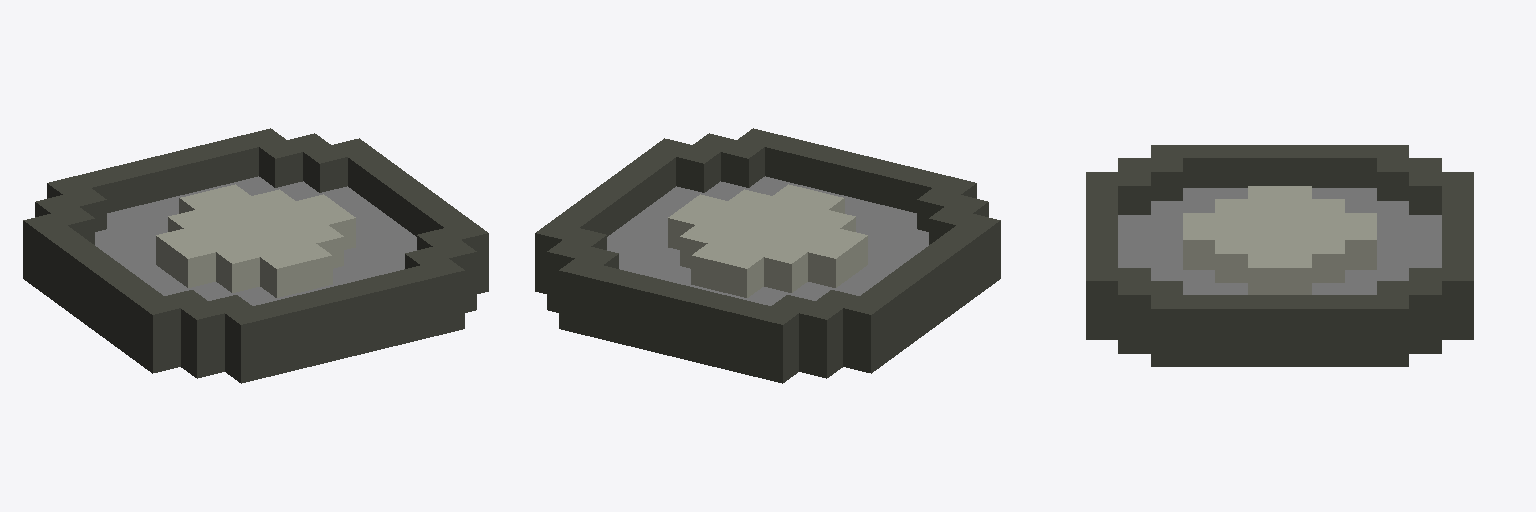
3 renders of one model, left to right at view 1: azimuth 30°, elevation 25°; view 2: azimuth 150°, elevation 25°; view 3: azimuth 270°, elevation 25°, orthographic.
Visible parts, largest first — view 1: object 1; view 2: object 1; view 3: object 1.
Part boxes in pixels (x1,y1,x2,y2): object 1: (23, 128, 488, 383); object 1: (535, 128, 1000, 383); object 1: (1086, 145, 1473, 366).
Bounding box in the file's own units: 1.2 × 0.2 × 1.2.
1 materials, 1 textured.